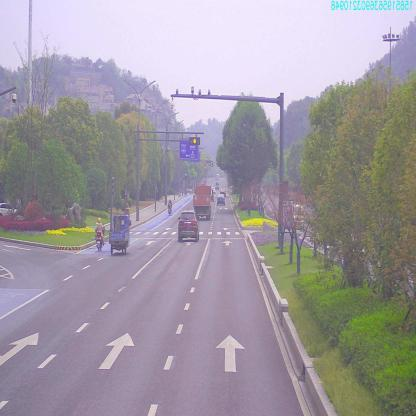traffic-light: (190, 137, 200, 146)
